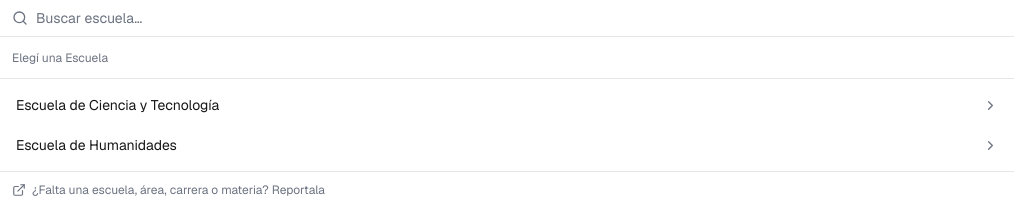
Test case: AreasCascader › scopes search to the current level, not the whole tree
Type "informatica" into the field with placeholder "Buscar escuela…" at (519, 18), box top-left (36, 8), bottom-right (1002, 28)
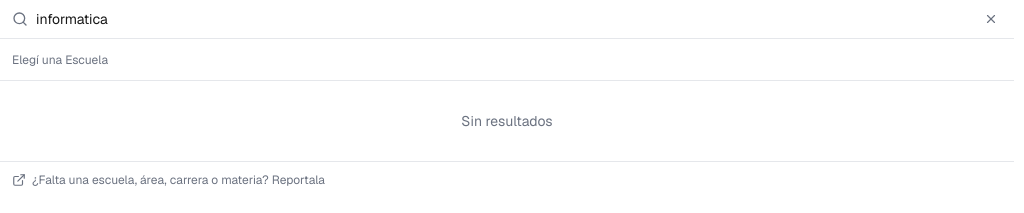
Expected: the text "Sin resultados" is shown, top-left (461, 112), bottom-right (553, 130)
